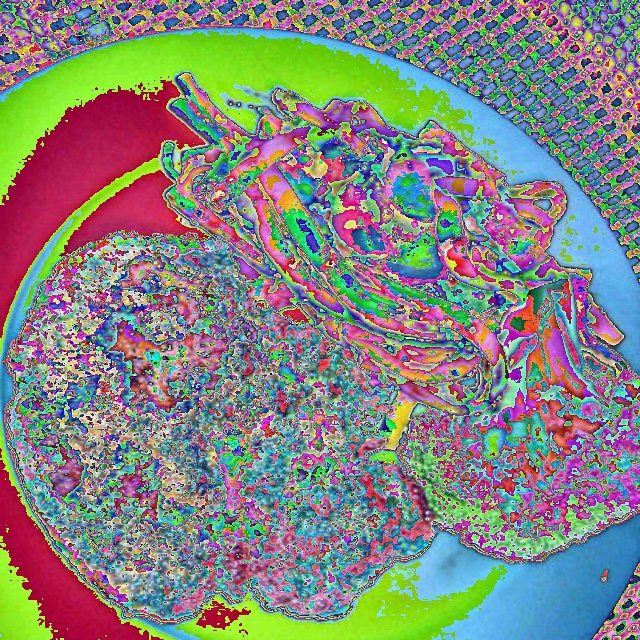background: (4, 70, 639, 622)
